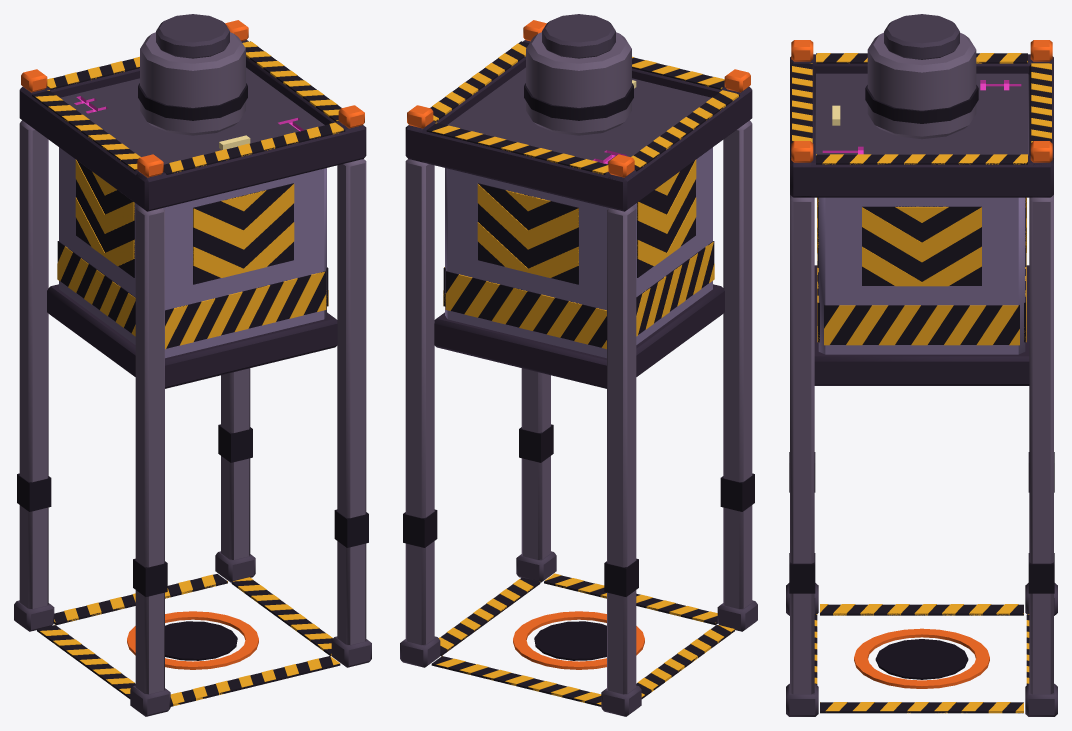
The model's file is trap_crusher_stamper__lower.glb.
The picture shows the model from 3 angles, left to right: view 1: azimuth 30°, elevation 25°; view 2: azimuth 150°, elevation 25°; view 3: azimuth 270°, elevation 25°; orthographic projection. The views are drawn at different scales.
Visible parts, largest first — view 1: Frame, Head; view 2: Frame, Head; view 3: Frame, Head.
Part boxes in pixels (x1,y1,x2,y2): Frame: (14,14,371,716); Head: (47,147,337,388); Frame: (400,14,757,716); Head: (434,147,724,388); Frame: (786,14,1057,716); Head: (814,197,1029,385).
Size of the model in its own units: 1 by 2.57 by 1.
